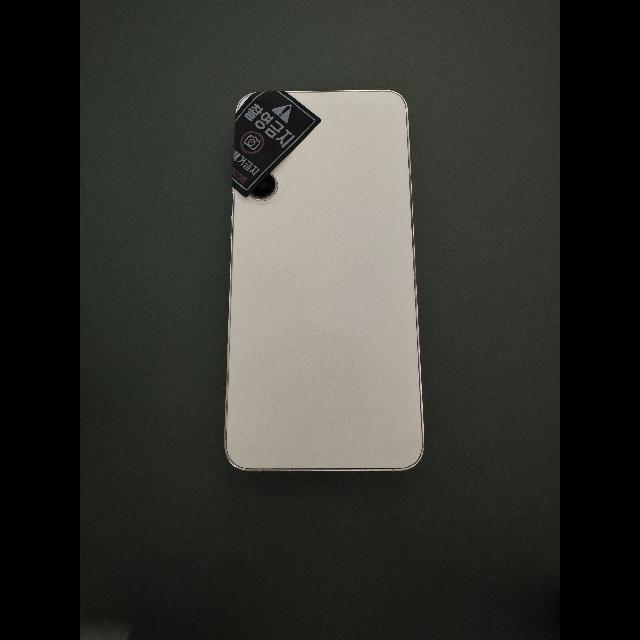lens: (251, 174, 276, 201)
phone: (224, 90, 424, 471)
sticker: (231, 90, 322, 198)
